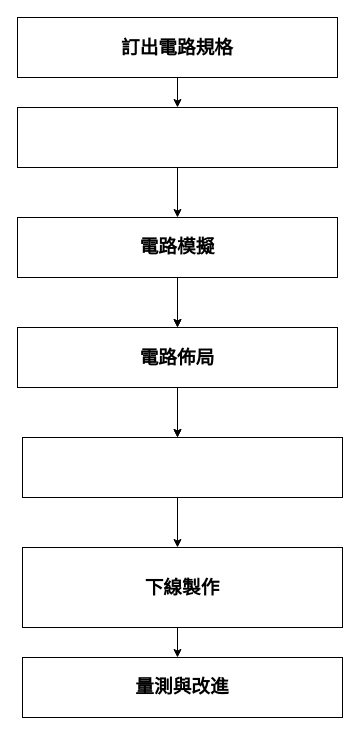
Some shapes in this 360 by 735 pixel diagram are drawn without their labels. The shapes that lost their labels are listed below. From the top down, each one's centre as x and y in pixels, then its label:
At point (177, 137): "設計電路架構和元件模型".
At point (182, 467): "電路驗證".
